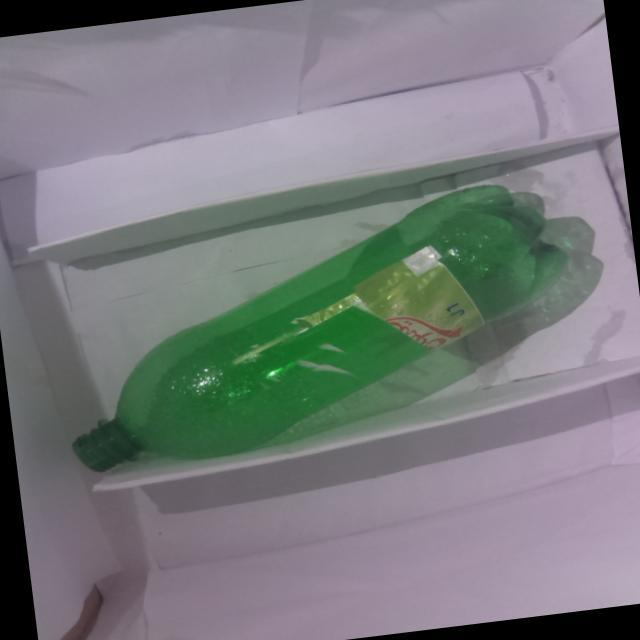good: (33, 172, 584, 492)
